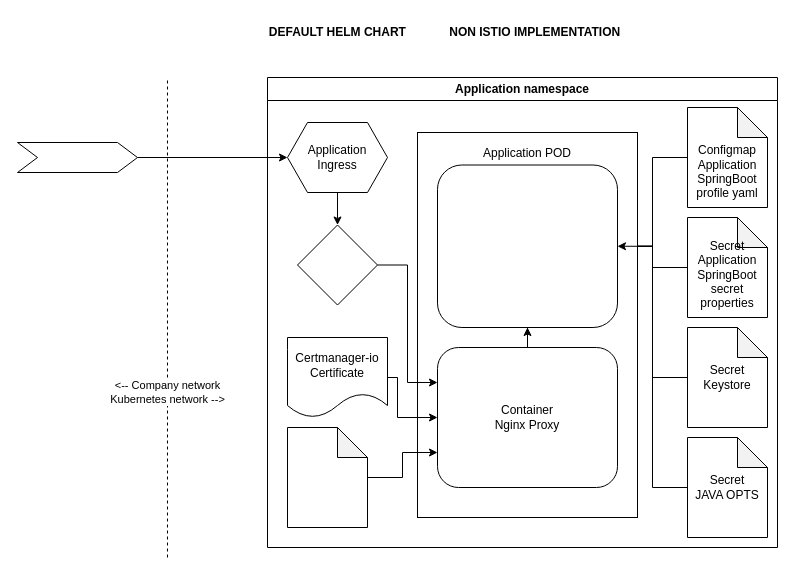
The diagram is 795 pixels wide and 576 high, and some of its shapes have lost their labels. The centre of each missing label's shape, as x and y in pixels:
Application container: point 527,246
Application Service: point 337,264
Configmap Nginx: point 327,477
http request: point 77,157
